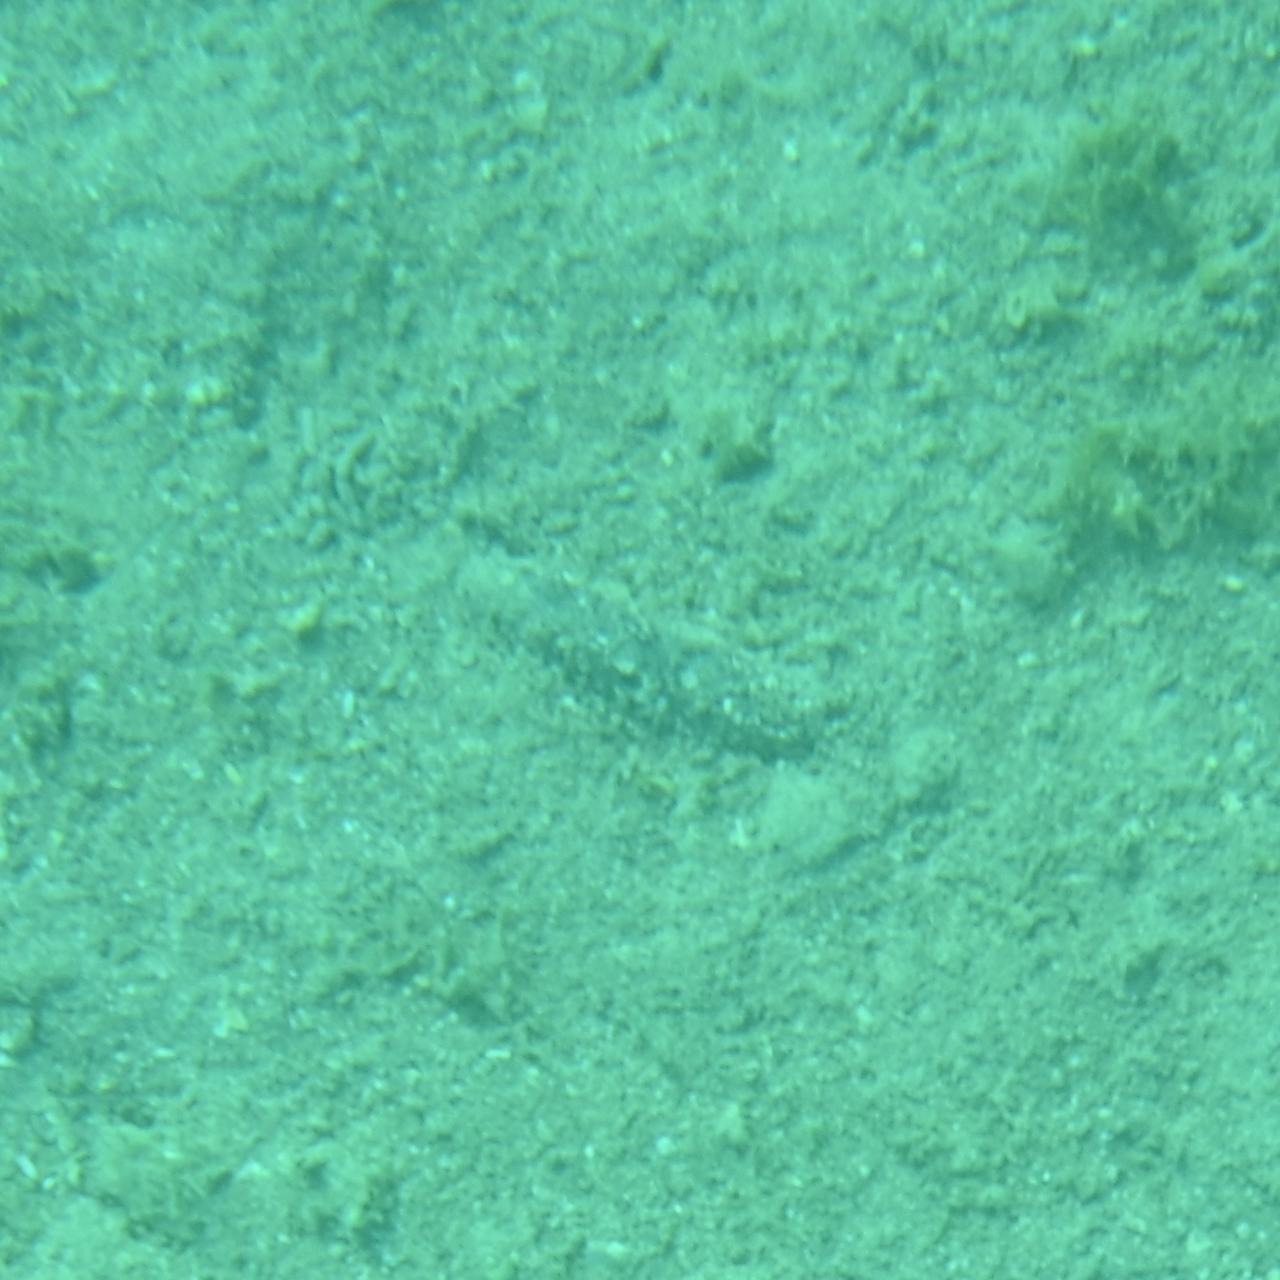Holothuria tubulosa: (400, 508, 880, 772)
